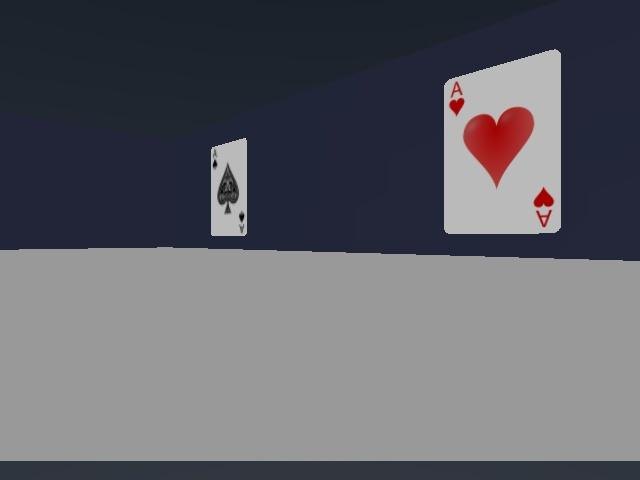heart: (444, 50, 560, 233)
spade: (210, 139, 246, 235)
